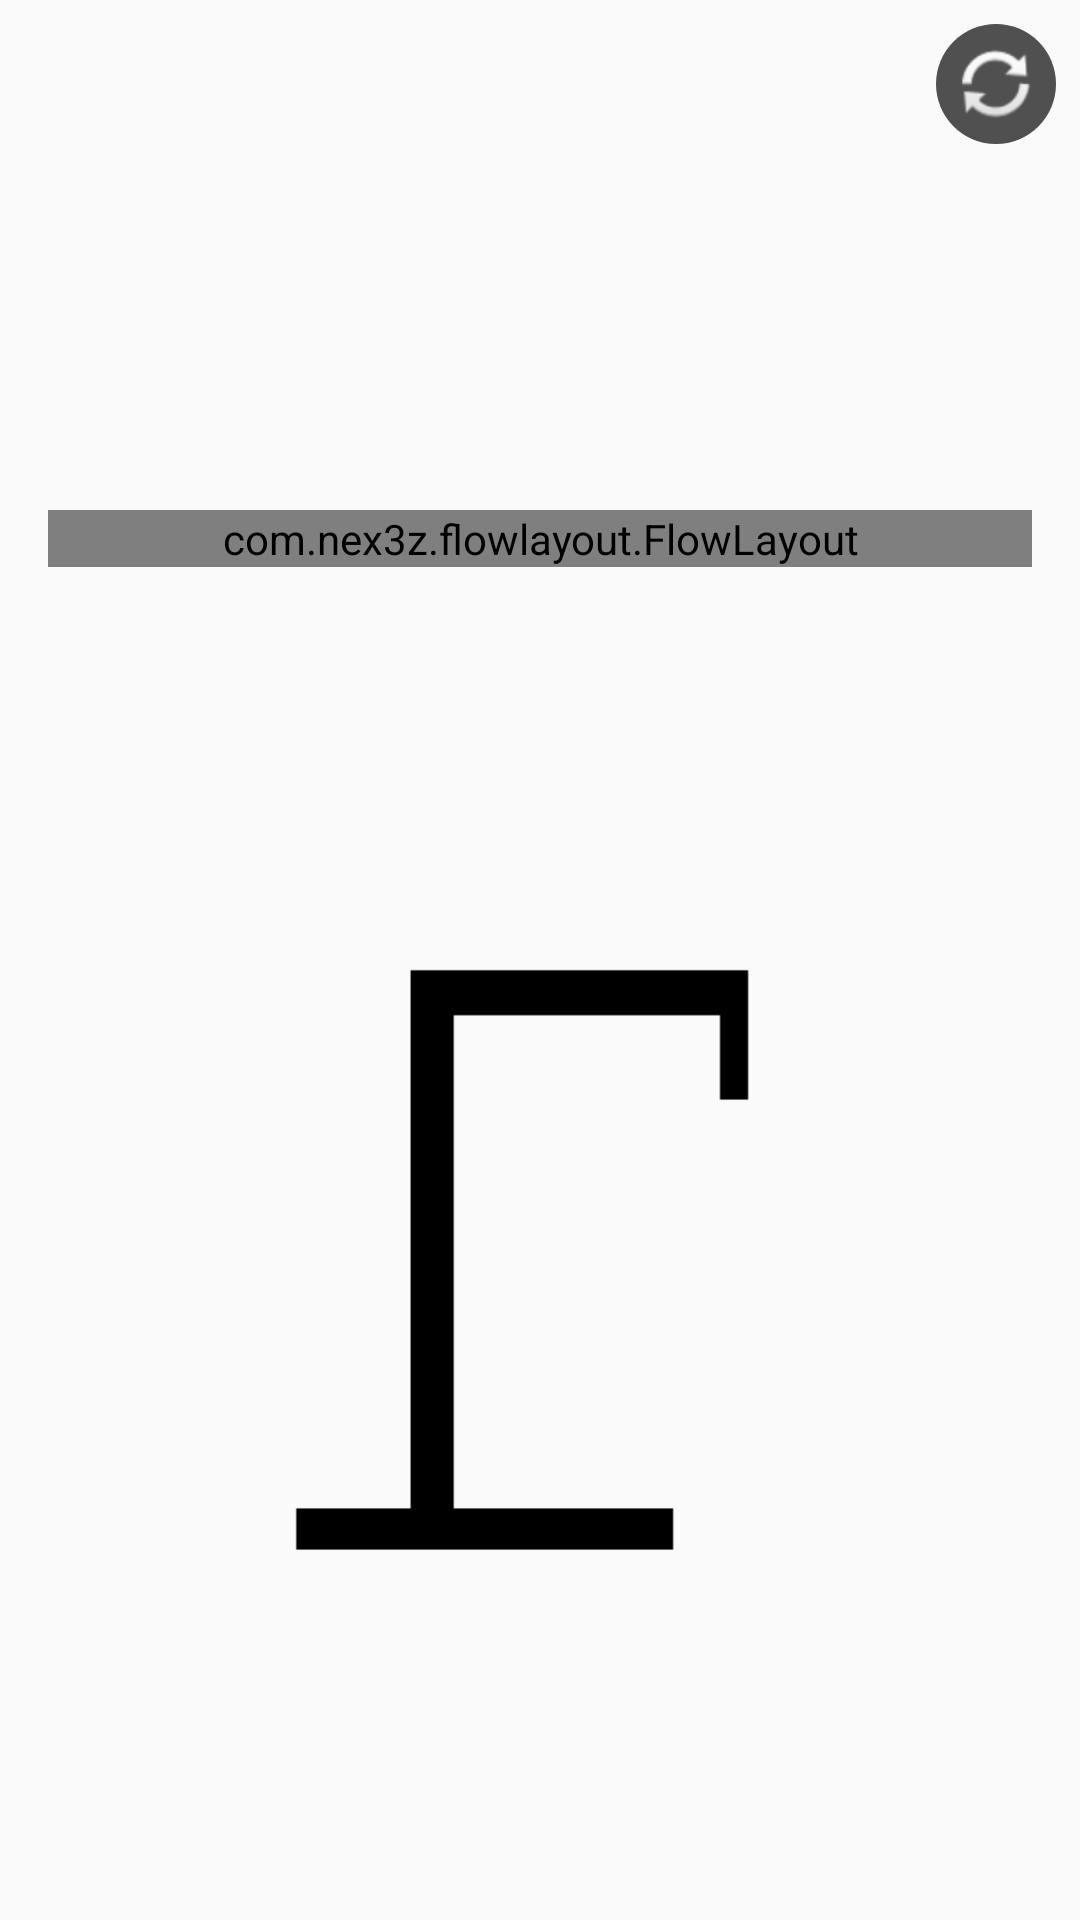

Locate icon controls on the screen. Image size 1080px x 1920px, boxes as box=[x1, y1, x2, y2].
Reset: box=[936, 24, 1056, 144]
